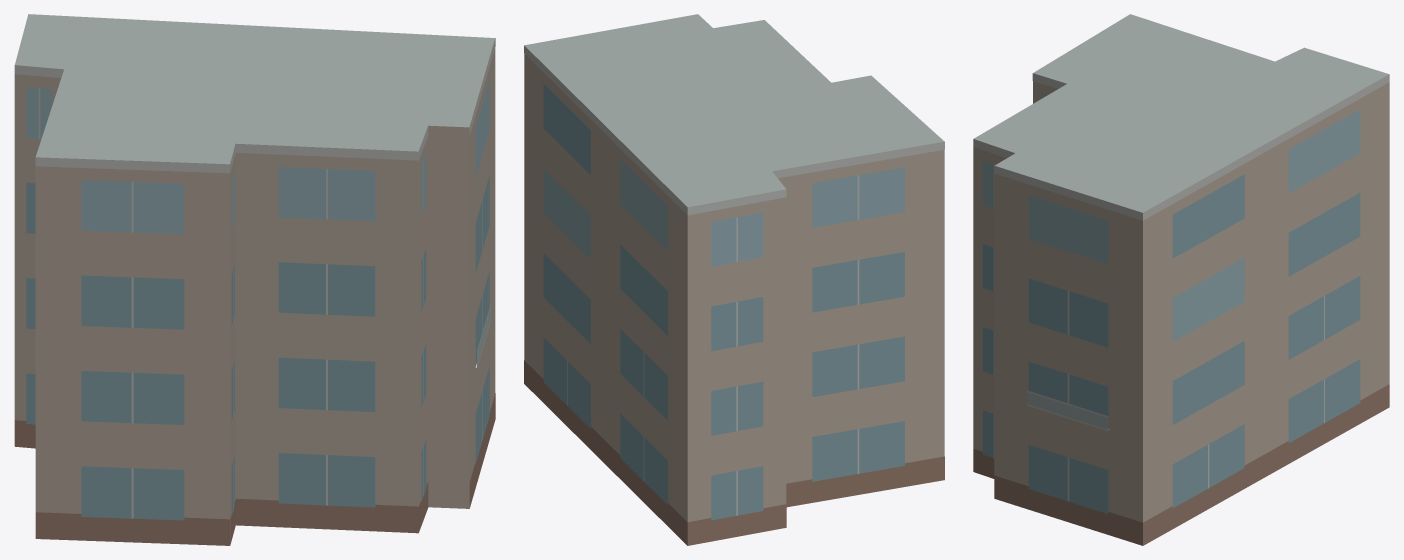
The model's file is survey-upis-32792667.glb.
3 views of the same model, side by side, from view 1: azimuth 30°, elevation 25°; view 2: azimuth 150°, elevation 25°; view 3: azimuth 270°, elevation 25° (orthographic). The views are drawn at different scales.
Visible parts, largest first — view 1: survey-upis-32792667.tmp; view 2: survey-upis-32792667.tmp; view 3: survey-upis-32792667.tmp.
Boxes of the visible parts, box(x1,y1,x2,y2) form: survey-upis-32792667.tmp: box(14, 14, 495, 545); survey-upis-32792667.tmp: box(524, 14, 944, 545); survey-upis-32792667.tmp: box(973, 14, 1389, 545).
Size of the model in its own units: 13.26 by 10.35 by 11.73.
